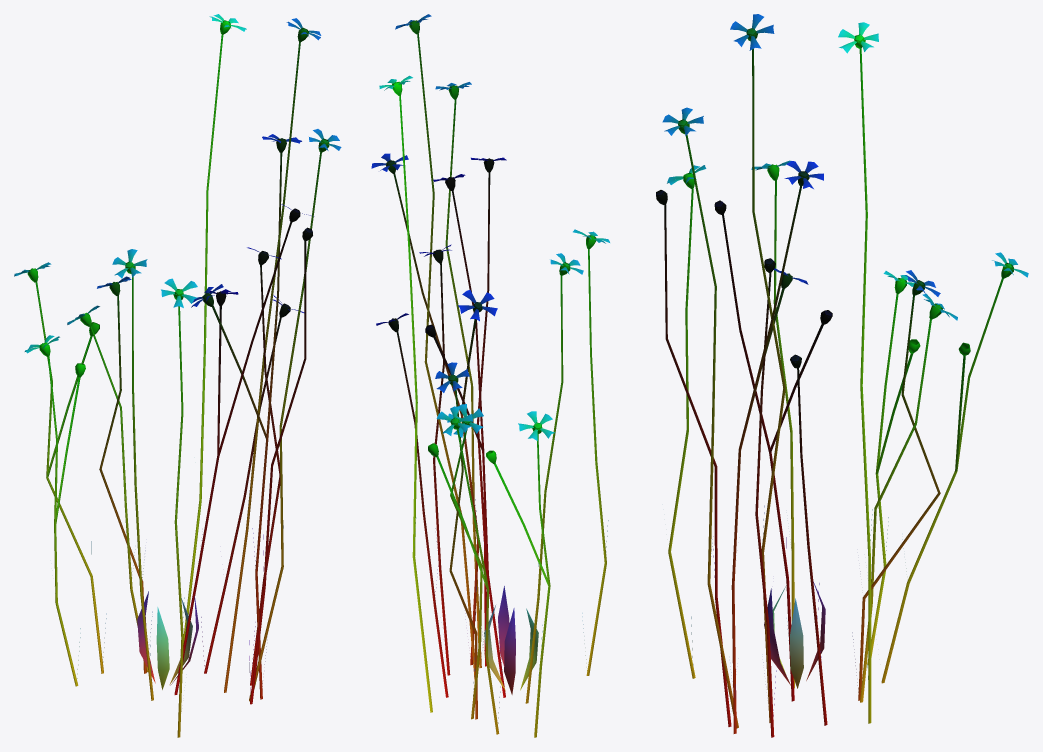
The model's file is SM_Flower_Cornflower_C_LOD2.fbx.
The picture shows the model from 3 angles, left to right: view 1: azimuth 30°, elevation 25°; view 2: azimuth 150°, elevation 25°; view 3: azimuth 270°, elevation 25°; orthographic projection. The views are drawn at different scales.
Parts seen in each view (by area): view 1: SM_Flower_Cornflower_C_LOD2; view 2: SM_Flower_Cornflower_C_LOD2; view 3: SM_Flower_Cornflower_C_LOD2.
Boxes of the visible parts, left/top/right/bottom form: SM_Flower_Cornflower_C_LOD2: left=14, top=14, right=341, bottom=737; SM_Flower_Cornflower_C_LOD2: left=371, top=14, right=609, bottom=737; SM_Flower_Cornflower_C_LOD2: left=656, top=14, right=1028, bottom=737.
Size of the model in its own units: 0.2641 by 0.7276 by 0.3468.
